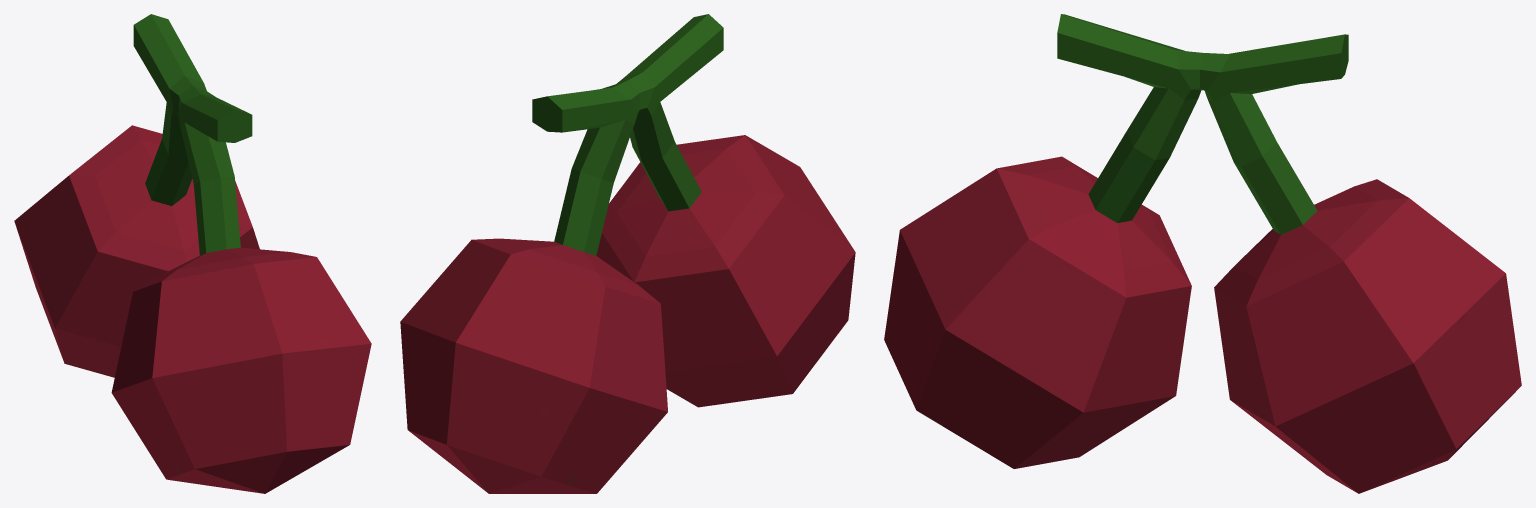
Rendered from M_cherry.fbx.
The picture shows the model from 3 angles, left to right: view 1: azimuth 30°, elevation 25°; view 2: azimuth 150°, elevation 25°; view 3: azimuth 270°, elevation 25°; orthographic projection. The views are drawn at different scales.
Parts seen in each view (by area): view 1: M_Cherry; view 2: M_Cherry; view 3: M_Cherry.
Boxes of the visible parts, x1,y1,x2,y2 form: M_Cherry: (14, 14, 371, 493); M_Cherry: (400, 14, 855, 493); M_Cherry: (884, 14, 1521, 493).
Size of the model in its own units: 15.35 by 21.06 by 27.53.
1 material, 1 textured.
